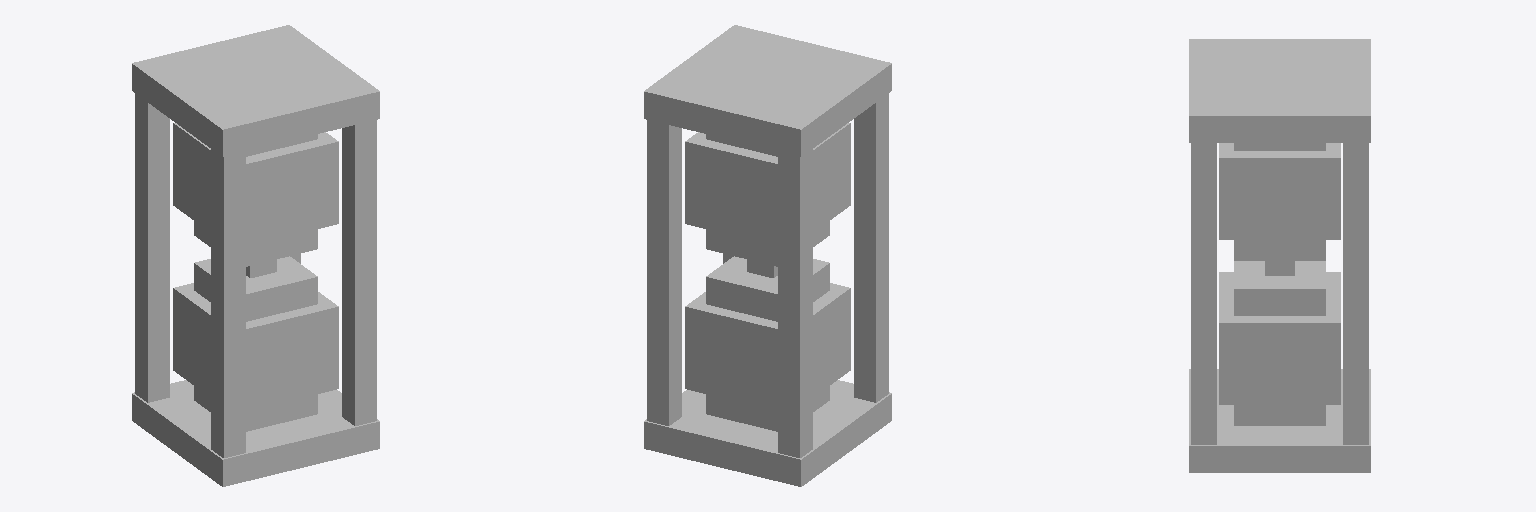
The model's file is 664_hourglass.obj.
3 renders of one model, left to right at view 1: azimuth 30°, elevation 25°; view 2: azimuth 150°, elevation 25°; view 3: azimuth 270°, elevation 25°, orthographic.
Visible parts, largest first — view 1: Top, glass2, Bottom, glass6, Pillar4, Pillar1, Pillar3, glass3, glass1, glass5; view 2: Top, glass2, Bottom, glass6, Pillar3, Pillar2, Pillar4, glass3, glass1, glass5; view 3: Top, glass2, glass6, Bottom, Pillar1, Pillar2, glass3, glass1, glass5, glass7.
Part boxes in pixels (bbox=[...]): Top: bbox=[132, 25, 379, 156]; glass2: bbox=[173, 283, 338, 411]; Bottom: bbox=[132, 380, 379, 486]; glass6: bbox=[173, 123, 338, 246]; Pillar4: bbox=[211, 149, 245, 457]; Pillar1: bbox=[342, 120, 376, 425]; Pillar3: bbox=[135, 93, 169, 402]; glass3: bbox=[194, 256, 317, 321]; glass1: bbox=[194, 386, 317, 431]; glass5: bbox=[194, 221, 317, 266]; Top: bbox=[644, 25, 891, 156]; glass2: bbox=[685, 283, 850, 411]; Bottom: bbox=[644, 380, 891, 486]; glass6: bbox=[685, 123, 850, 246]; Pillar3: bbox=[778, 149, 812, 457]; Pillar2: bbox=[647, 120, 681, 425]; Pillar4: bbox=[854, 93, 888, 402]; glass3: bbox=[706, 256, 829, 321]; glass1: bbox=[706, 386, 829, 431]; glass5: bbox=[706, 221, 829, 266]; Top: bbox=[1189, 39, 1370, 142]; glass2: bbox=[1219, 272, 1340, 404]; glass6: bbox=[1219, 143, 1340, 239]; Bottom: bbox=[1189, 369, 1370, 472]; Pillar1: bbox=[1191, 143, 1216, 444]; Pillar2: bbox=[1343, 143, 1368, 444]; glass3: bbox=[1234, 261, 1325, 315]; glass1: bbox=[1234, 405, 1325, 425]; glass5: bbox=[1234, 240, 1325, 260]; glass7: bbox=[1234, 143, 1325, 150].
Size of the model in its own units: 0.75 by 1.62 by 0.75.